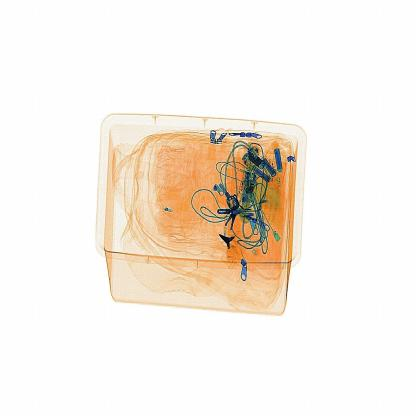gun: (211, 224, 246, 266)
